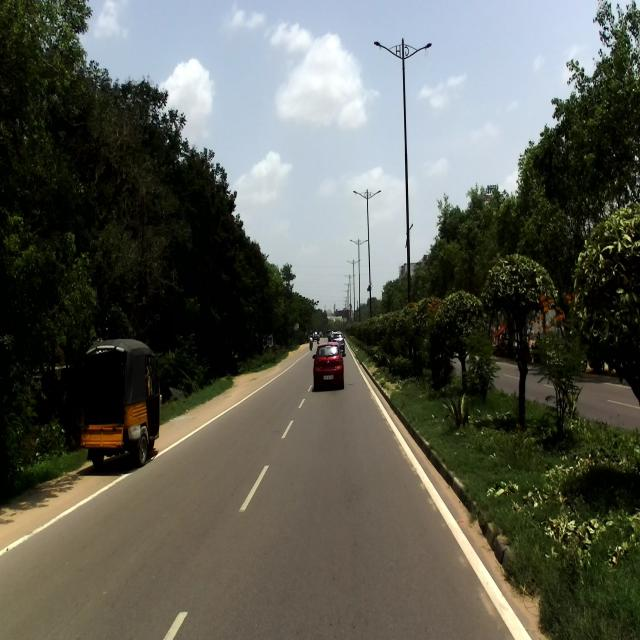Car_Hyundai: (312, 340, 344, 391)
autorickshaw: (80, 338, 162, 471)
